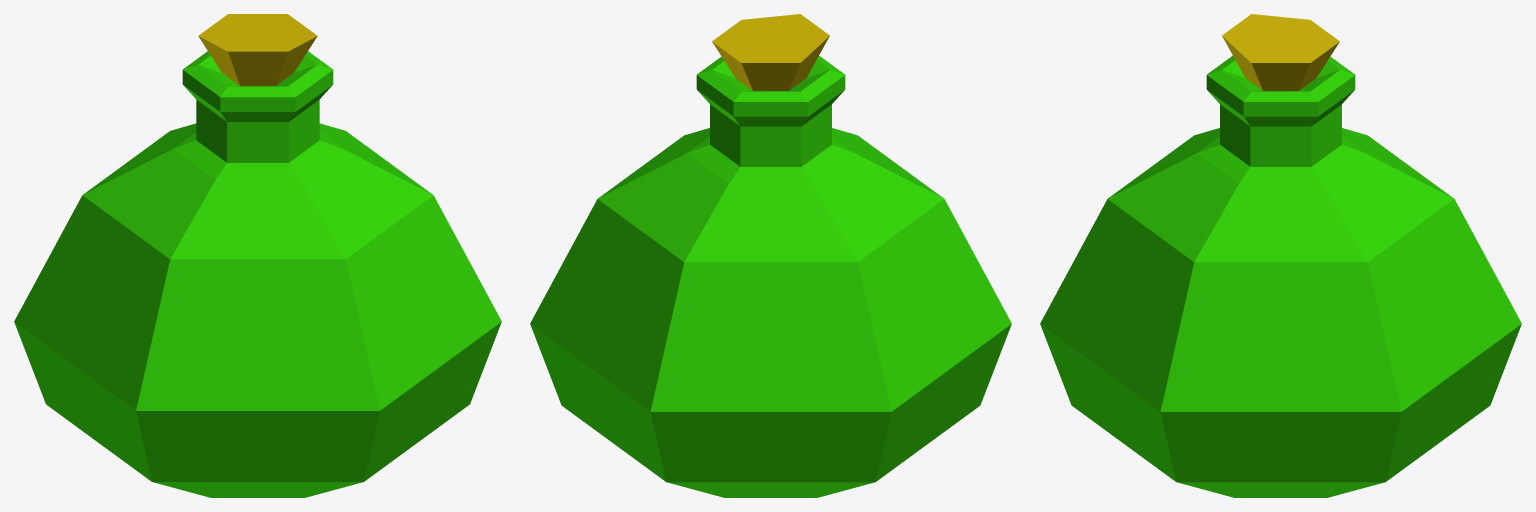
The model's file is bottle.fbx.
3 views of the same model, side by side, from view 1: azimuth 30°, elevation 25°; view 2: azimuth 150°, elevation 25°; view 3: azimuth 270°, elevation 25° (orthographic).
Visible parts, largest first — view 1: Circle; view 2: Circle; view 3: Circle.
Part boxes in pixels (x1,y1,x2,y2): Circle: (14, 14, 501, 497); Circle: (530, 14, 1011, 497); Circle: (1040, 14, 1521, 497).
Bounding box in the file's own units: 451 × 511 × 521.
